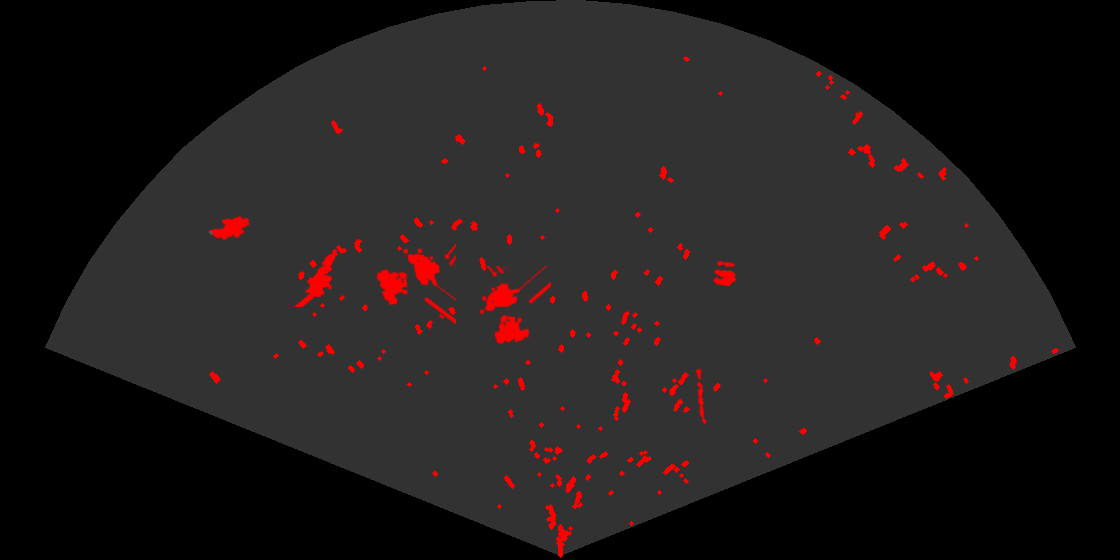AUV: (207, 214, 252, 242)
ball: (711, 259, 738, 288)
cage: (375, 241, 456, 327), (478, 266, 551, 346)
chain: (694, 368, 708, 426)
frogman: (293, 247, 340, 307)
